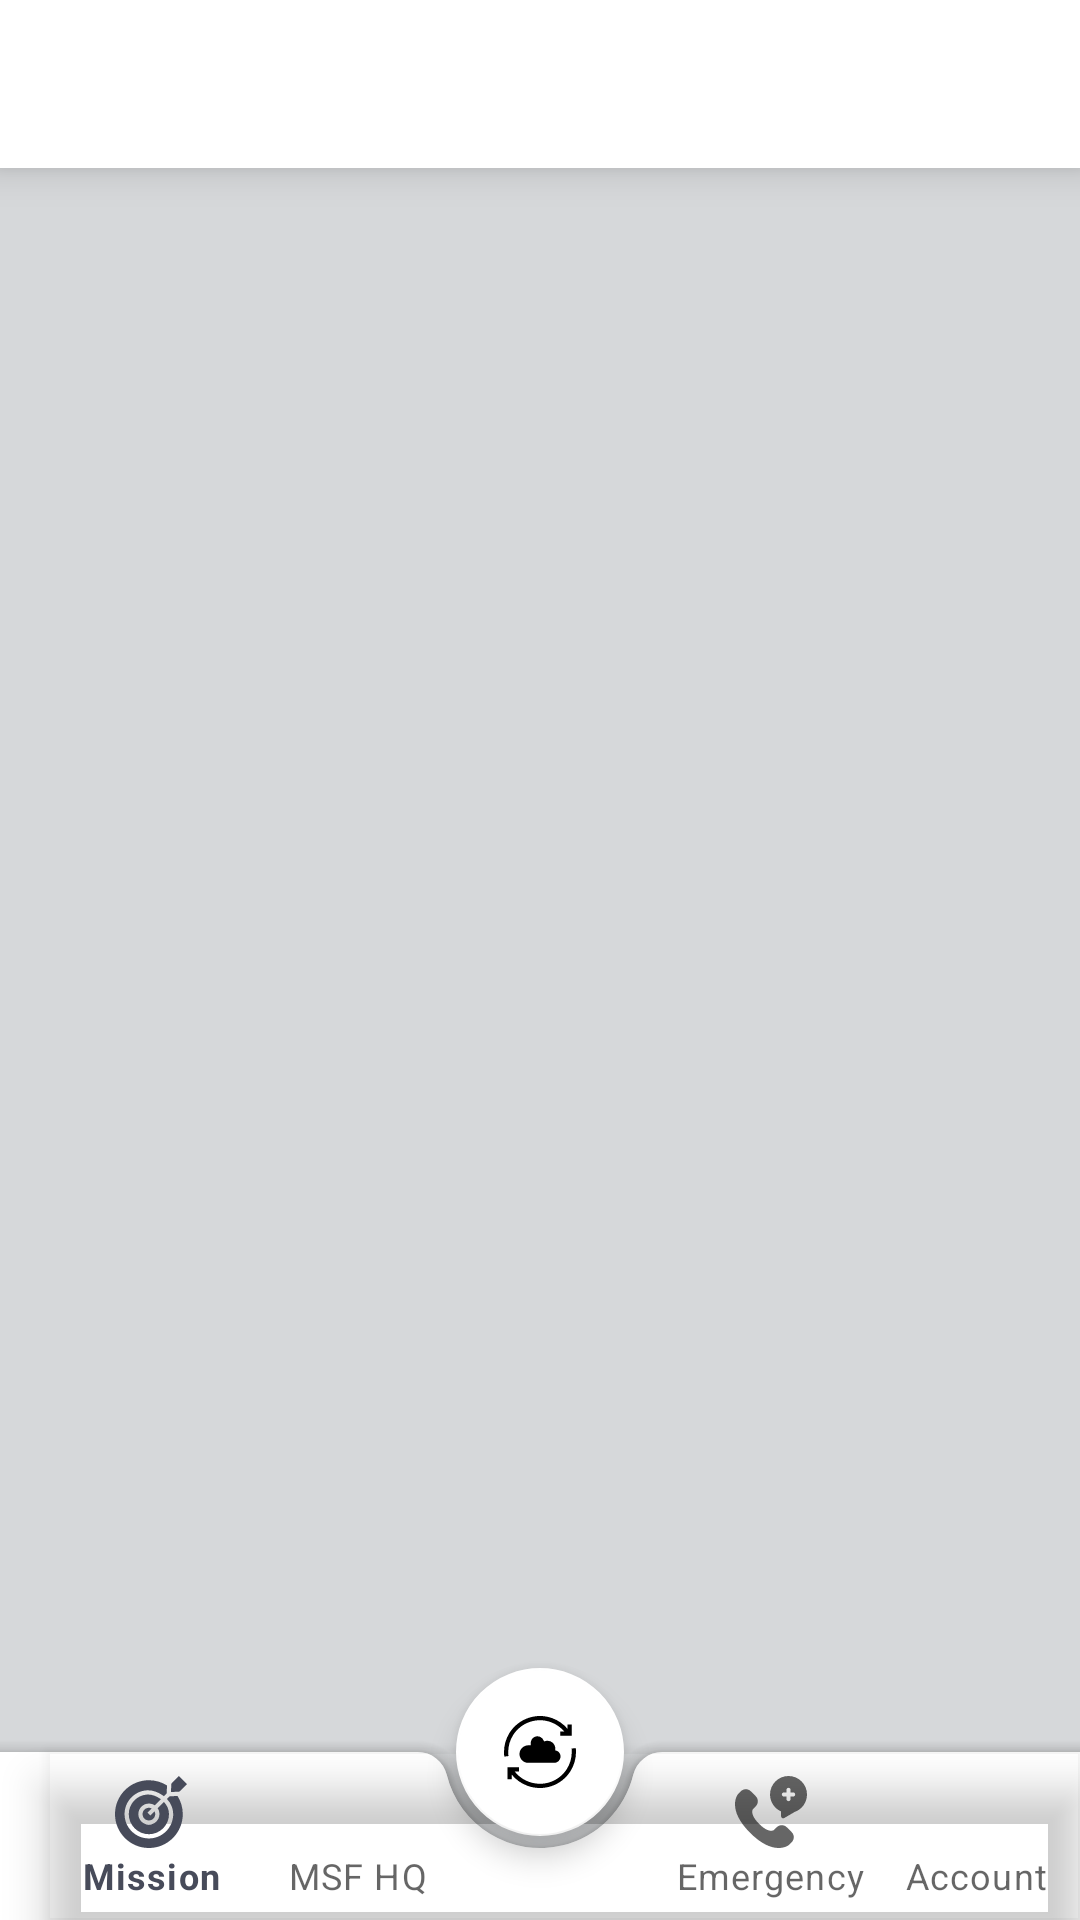

Icons on this 1080*1920 Android screen, each with its box as bbox(x1, y1, x2, y2):
sync: bbox(456, 1668, 624, 1836)
